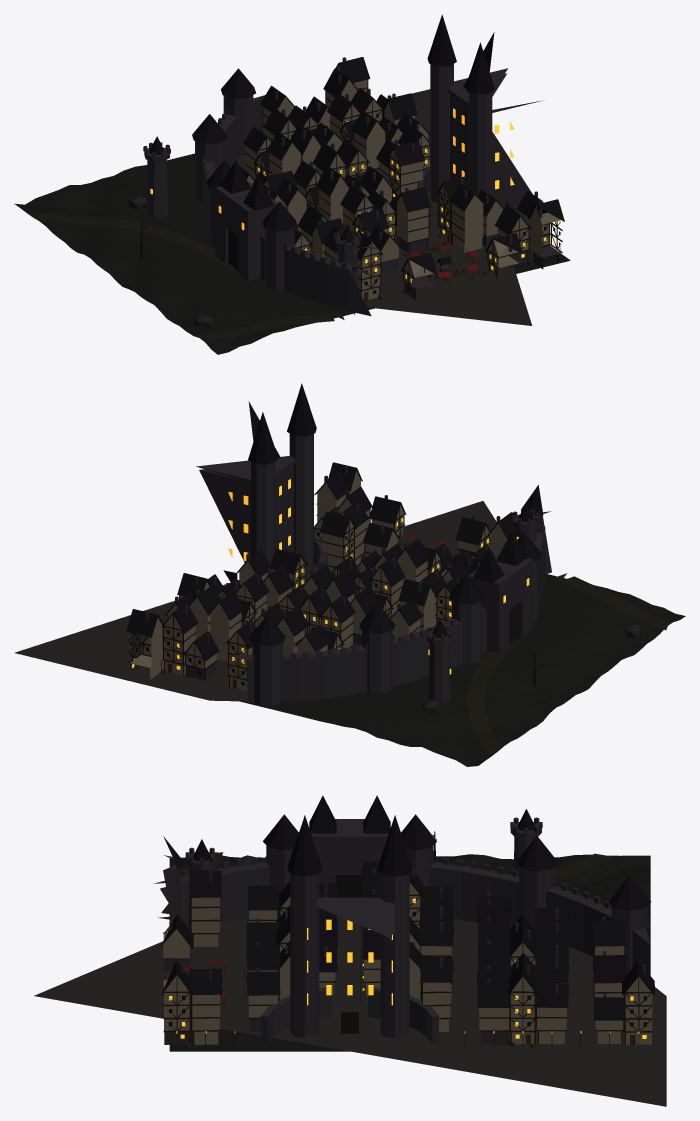
File: chunk-5-4.glb
3 views of the same model, one above another, from view 1: azimuth 30°, elevation 25°; view 2: azimuth 150°, elevation 25°; view 3: azimuth 270°, elevation 25° (orthographic). The views are drawn at different scales.
Parts seen in each view (by area): view 1: Castle_Stone, Roof_Slate, Ash_Ground, Plaster, Cobblestone, Timber, Dirt_Road, Old_Wood, Window_Glow; view 2: Castle_Stone, Roof_Slate, Ash_Ground, Plaster, Cobblestone, Timber, Dirt_Road, Window_Glow; view 3: Castle_Stone, Cobblestone, Roof_Slate, Plaster, Ash_Ground, Timber, Iron, Window_Glow, Dirt_Road.
Part boxes in pixels (x1,y1,x2,y2): Castle_Stone: (143,57,560,316); Roof_Slate: (149,14,564,275); Ash_Ground: (14,153,570,354); Plaster: (245,65,560,300); Cobblestone: (229,89,532,325); Timber: (245,79,562,295); Dirt_Road: (32,213,344,340); Old_Wood: (364,196,558,300); Window_Glow: (150,108,560,282); Castle_Stone: (145,433,551,705); Roof_Slate: (126,383,543,661); Ash_Ground: (239,574,685,766); Plaster: (130,471,507,690); Cobblestone: (14,501,496,701); Timber: (128,503,489,691); Dirt_Road: (467,573,669,753); Window_Glow: (132,479,529,674); Castle_Stone: (153,817,649,1044); Cobblestone: (34,915,666,1106); Roof_Slate: (160,795,654,1020); Plaster: (163,882,652,1044); Ash_Ground: (169,854,650,1051); Timber: (163,894,652,1045); Iron: (176,875,638,1047); Window_Glow: (169,898,646,1038); Dirt_Road: (158,852,614,919).
Size of what is drawn, in the model's own units: 103 by 42.3 by 112.
